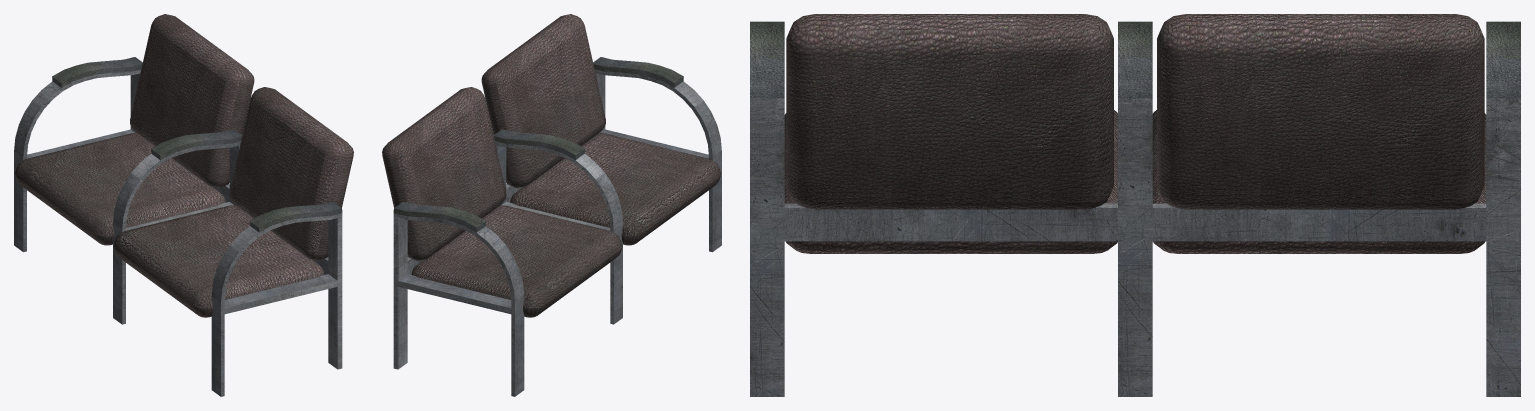
File: SilasADN.fbx
3 views of the same model, side by side, from view 1: azimuth 30°, elevation 25°; view 2: azimuth 150°, elevation 25°; view 3: azimuth 270°, elevation 25° (orthographic). The views are drawn at different scales.
Visible parts, largest first — view 1: Box001; view 2: Box001; view 3: Box001.
Boxes of the visible parts, bbox=[...] form: Box001: bbox=[14, 14, 353, 396]; Box001: bbox=[382, 14, 721, 396]; Box001: bbox=[750, 14, 1520, 396].
Size of the model in its own units: 138 by 173 by 307.
